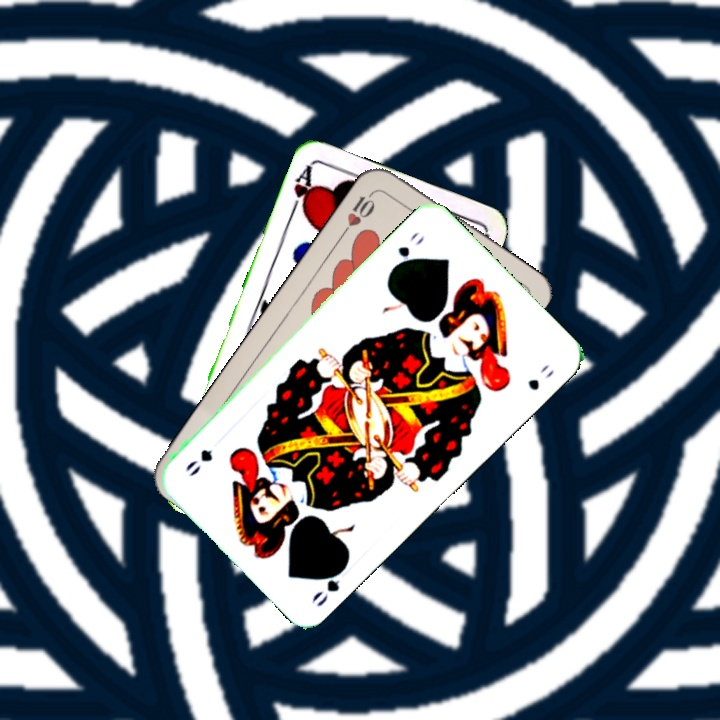GO: (307, 559, 351, 610), (388, 228, 428, 273)
H10: (338, 186, 378, 238)
HA: (286, 162, 317, 219)
